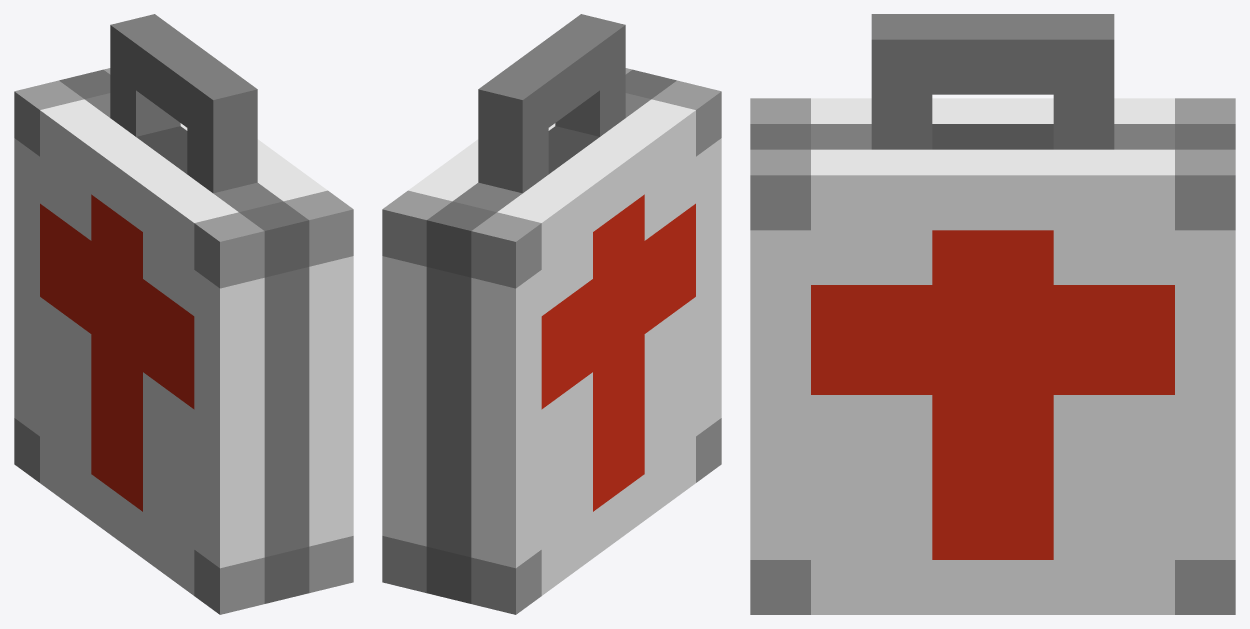
The model's file is HealthBox.obj.
The picture shows the model from 3 angles, left to right: view 1: azimuth 30°, elevation 25°; view 2: azimuth 150°, elevation 25°; view 3: azimuth 270°, elevation 25°; orthographic projection. The views are drawn at different scales.
Bounding box in the file's own units: 6 × 20 × 16.
Materials: 1 (1 with a texture image).
